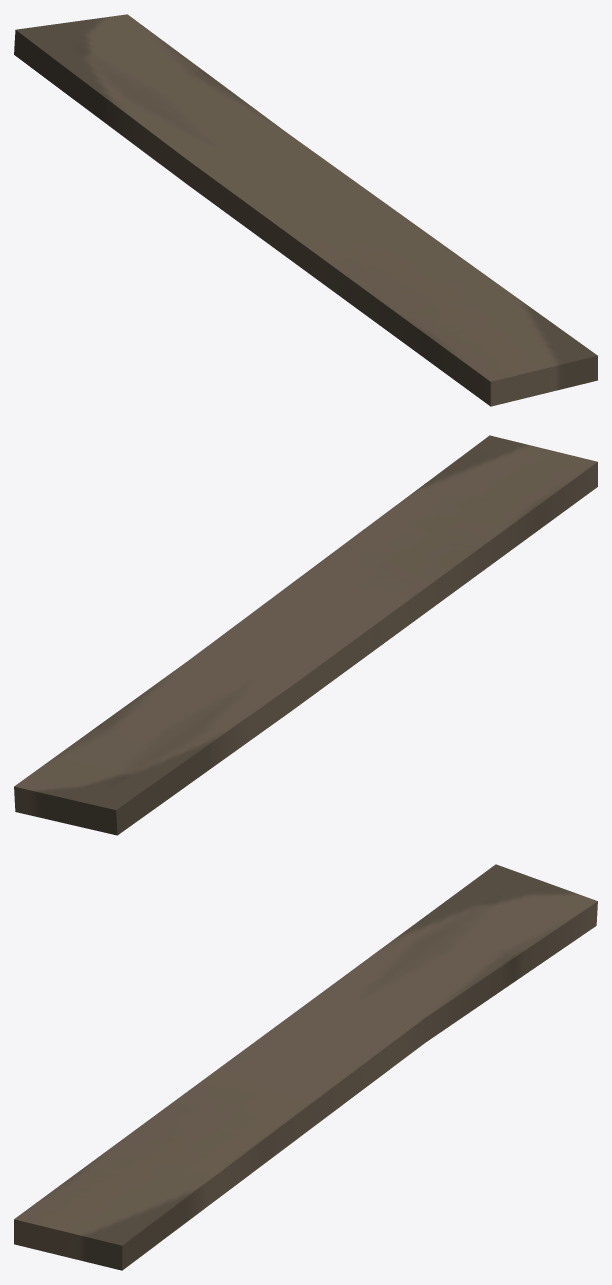
Rendered from SM_Bld_Dock_Plank_07.fbx.
The picture shows the model from 3 angles, top to bottom: view 1: azimuth 30°, elevation 25°; view 2: azimuth 150°, elevation 25°; view 3: azimuth 330°, elevation 25°; orthographic projection.
Parts seen in each view (by area): view 1: SM_Bld_Dock_Plank_07; view 2: SM_Bld_Dock_Plank_07; view 3: SM_Bld_Dock_Plank_07.
Part boxes in pixels (bbox=[...]): SM_Bld_Dock_Plank_07: bbox=[14, 14, 597, 406]; SM_Bld_Dock_Plank_07: bbox=[14, 435, 597, 835]; SM_Bld_Dock_Plank_07: bbox=[14, 864, 597, 1270].
Bounding box in the file's own units: 32.62 × 9.03 × 248.
1 material, 1 textured.
